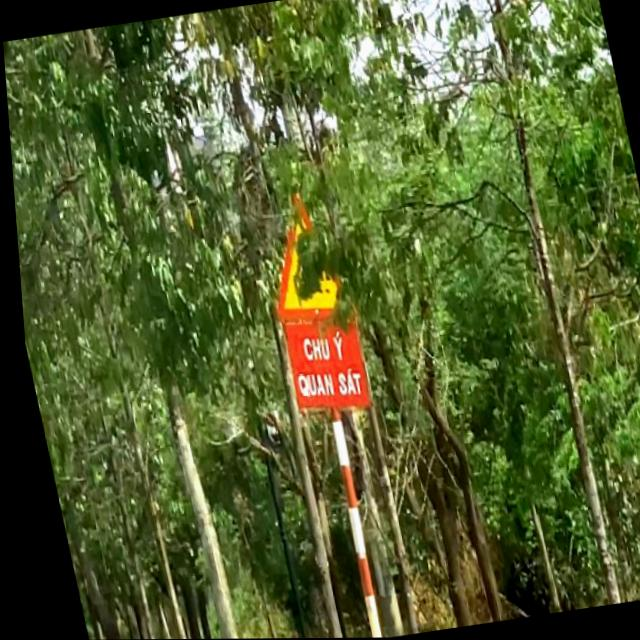Nguoi di bo cat ngang: (245, 175, 357, 326)
